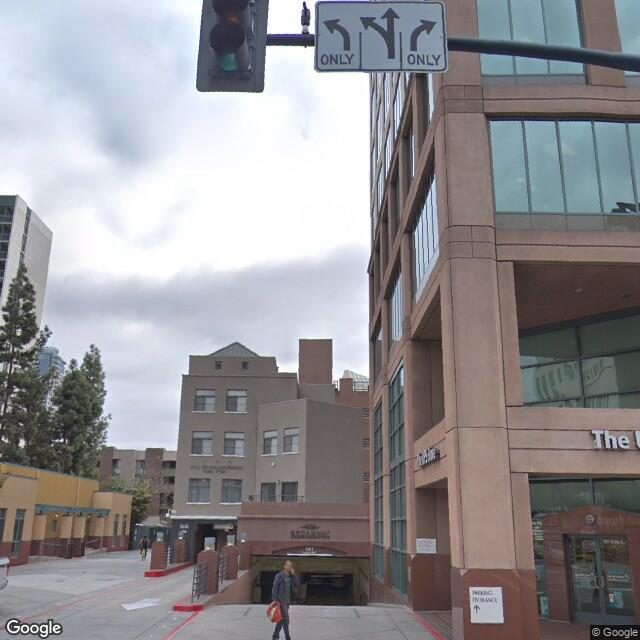window: (485, 113, 531, 218), (562, 118, 597, 210), (282, 422, 302, 459), (226, 429, 247, 463), (225, 387, 248, 417)
